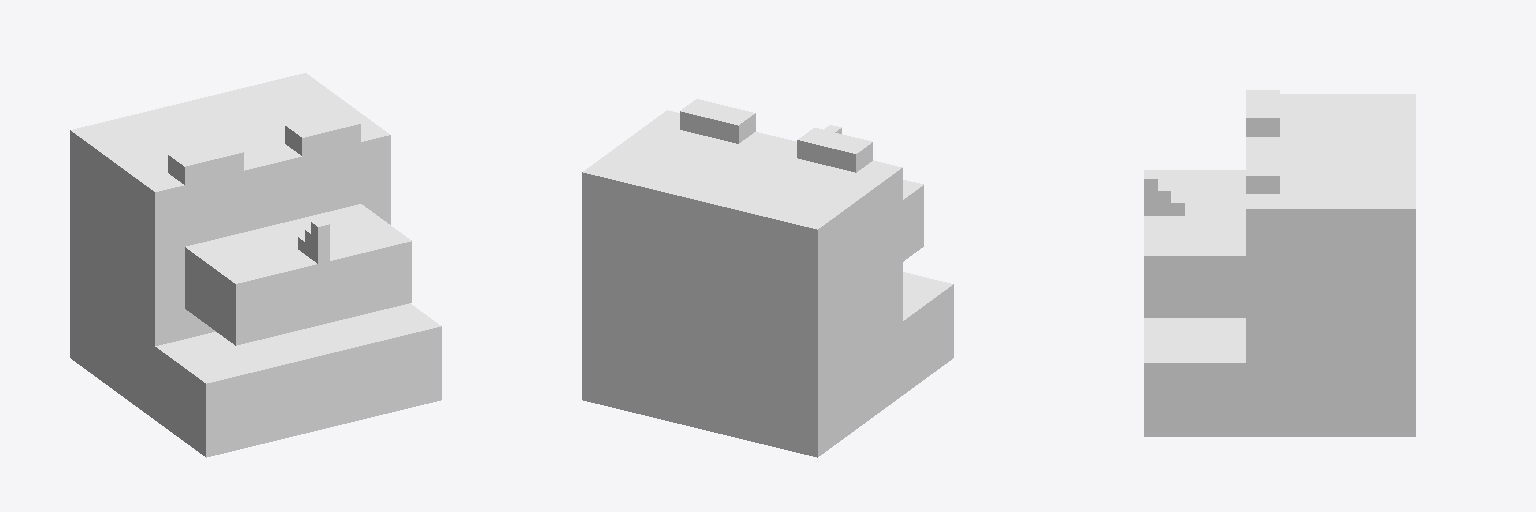
The model's file is Rihno.obj.
3 views of the same model, side by side, from view 1: azimuth 30°, elevation 25°; view 2: azimuth 150°, elevation 25°; view 3: azimuth 270°, elevation 25° (orthographic).
Parts seen in each view (by area): view 1: Rihno; view 2: Rihno; view 3: Rihno.
Boxes of the visible parts, box(x1,y1,x2,y2) form: Rihno: box(70, 73, 441, 457); Rihno: box(582, 99, 953, 457); Rihno: box(1144, 90, 1415, 436).
Bounding box in the file's own units: 40 × 40 × 40.